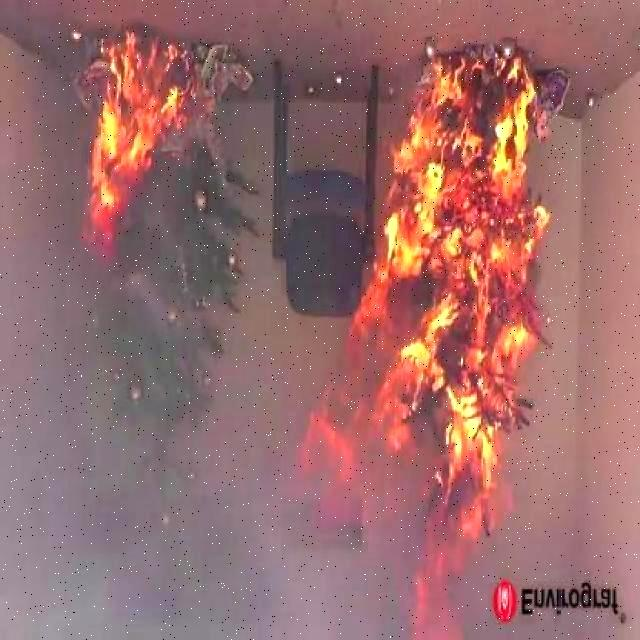fire: (296, 48, 606, 640), (75, 29, 222, 261)
